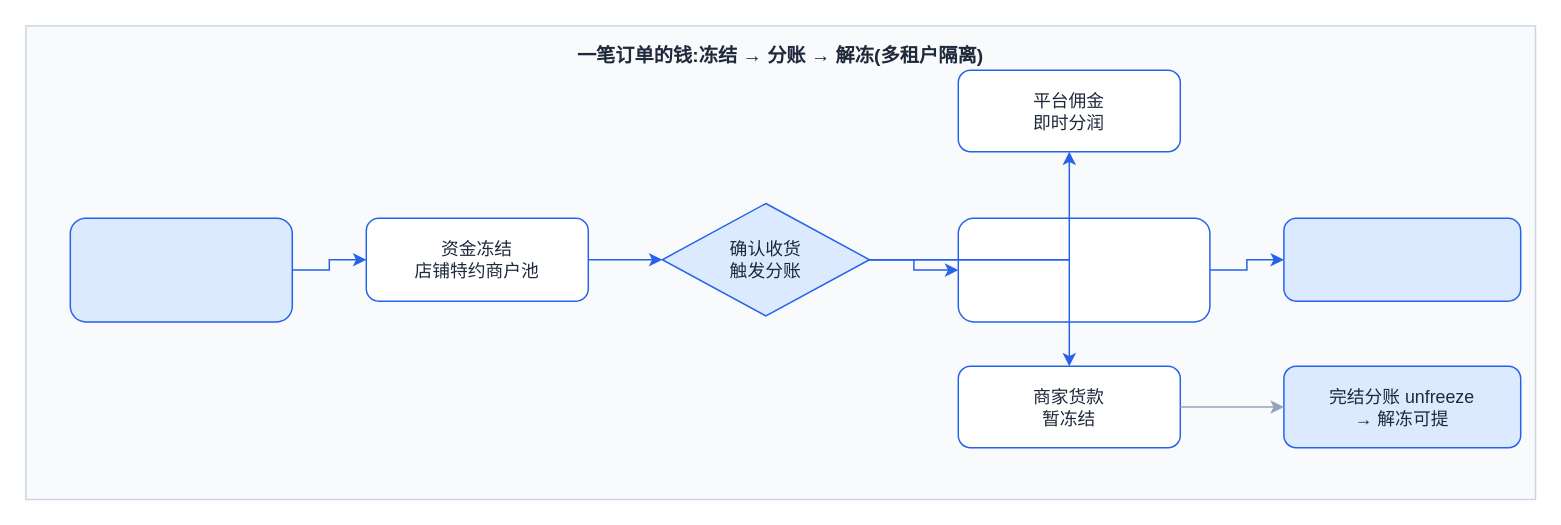
The diagram is 1561 pixels wide and 525 high, and some of its shapes have lost their labels. Each missing label, with the centre of its shape:
提现审核通过 → 微信分账到达人零钱: the point at 1401,259
用户支付 profit_sharing=true: the point at 180,269
达人佣金 延迟分账(UN_SPLIT) 留冻结池: the point at 1083,269
